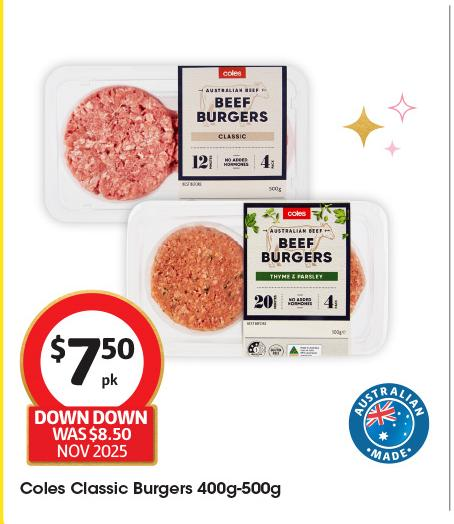description_block: (15, 476, 299, 503)
price_main: (17, 289, 162, 409)
product_image_block: (39, 57, 403, 365)
promo_text_block: (19, 399, 171, 471)
